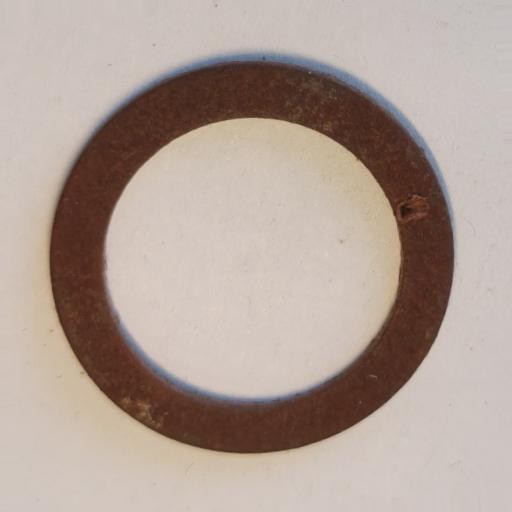defect: (396, 192, 430, 223)
